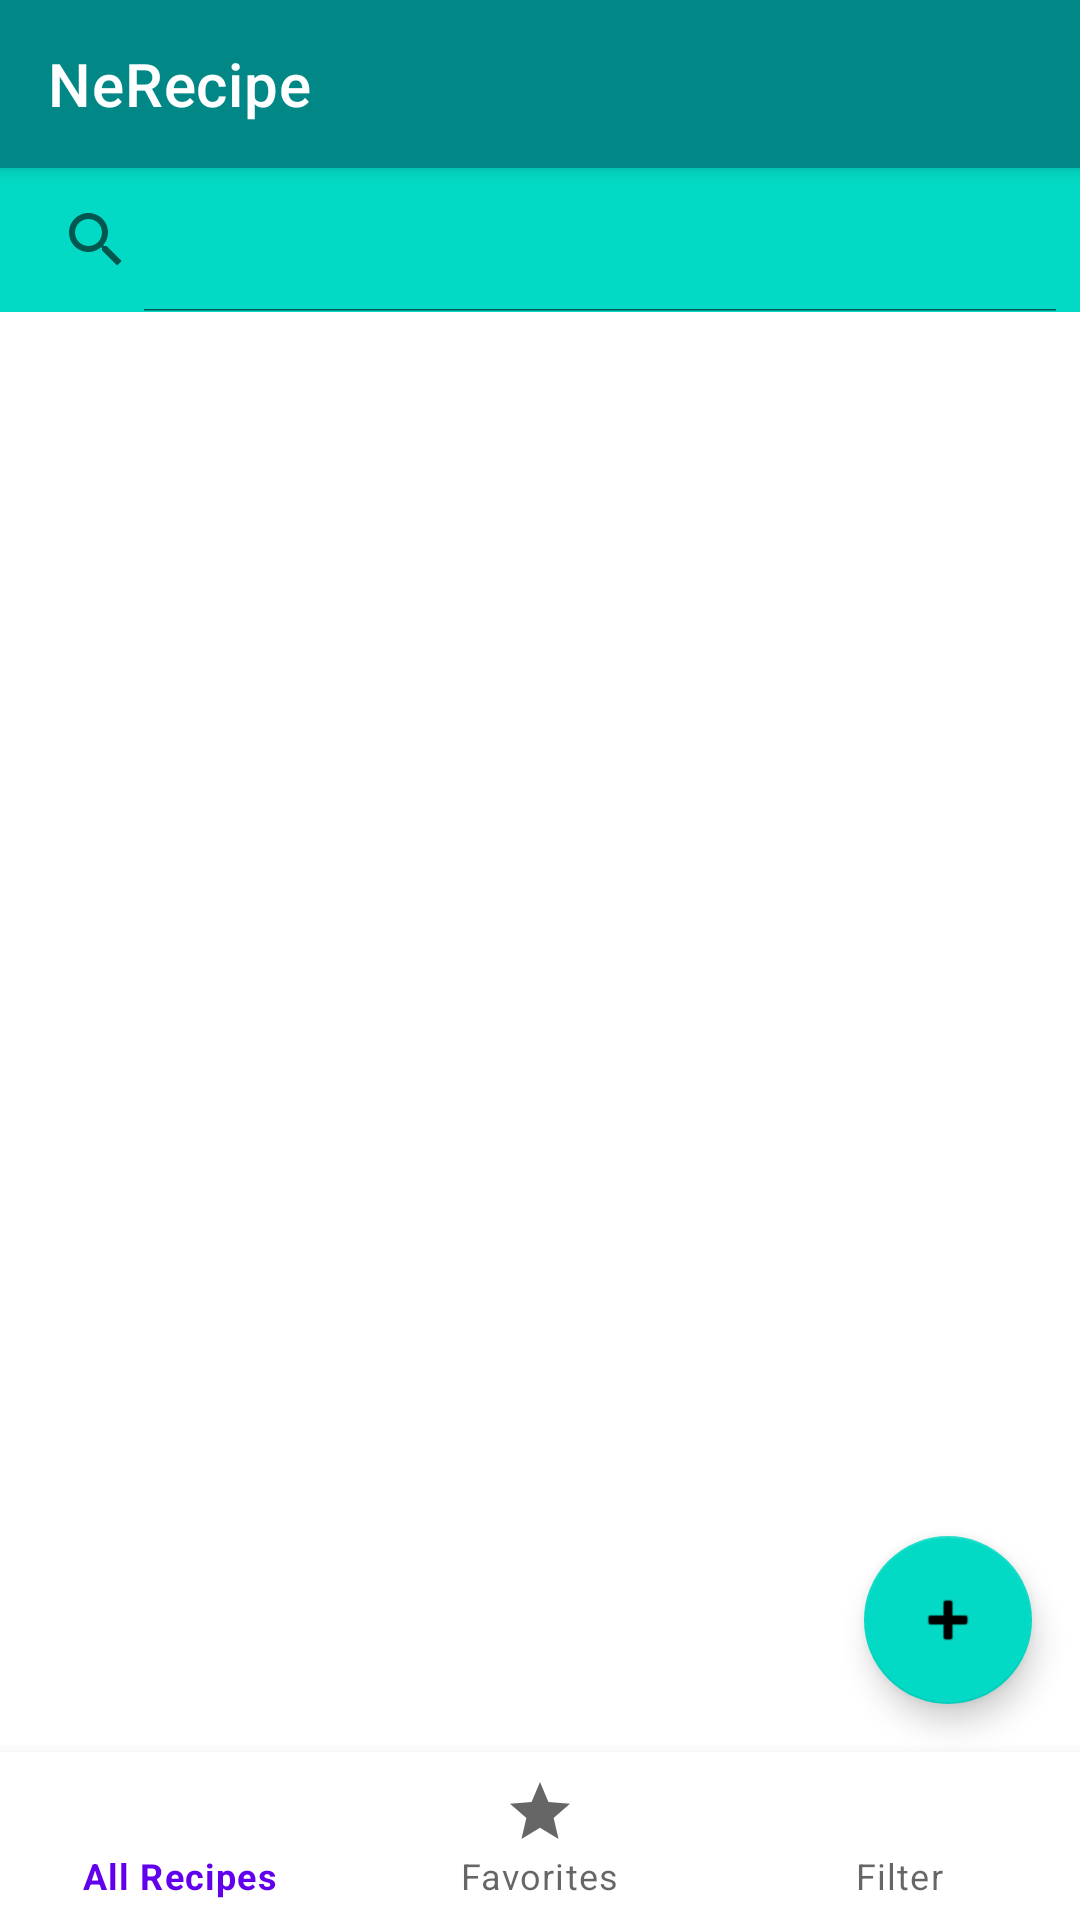

Locate icon controls on the screen. Image size 1080 x 1920, boxes as (x1, y1, x2, y2).
Add: (864, 1536, 1032, 1704)
